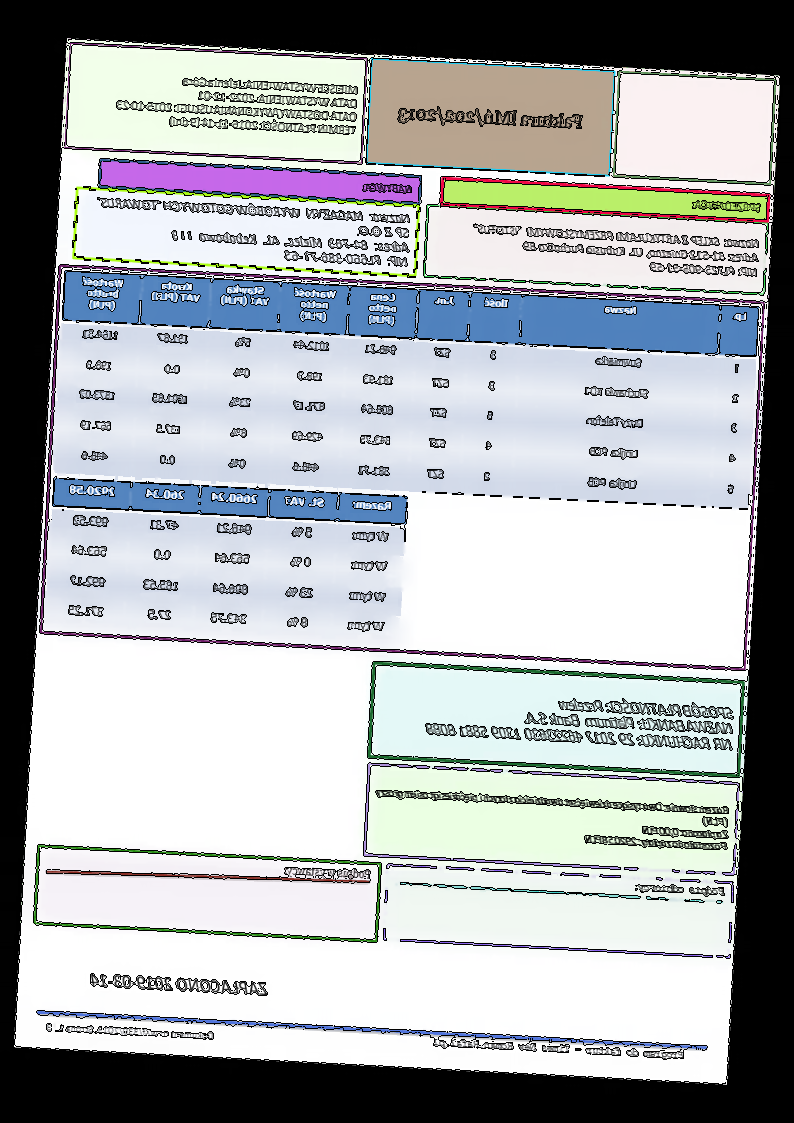Table: (55, 269, 761, 512), (46, 475, 409, 647)
TextBox: (372, 786, 731, 853), (93, 195, 413, 268), (424, 686, 737, 753), (113, 70, 361, 139), (469, 222, 762, 279), (433, 1036, 685, 1063), (397, 102, 586, 136), (89, 969, 271, 998), (44, 1020, 217, 1042), (283, 862, 372, 884), (634, 881, 728, 899), (692, 197, 763, 214), (361, 180, 414, 197)
